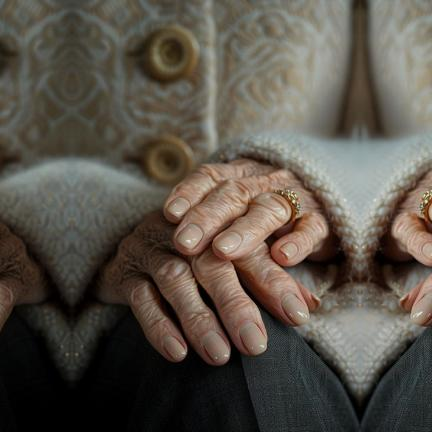Nail: (239, 322, 267, 356), (202, 332, 230, 364), (281, 294, 309, 326), (162, 335, 187, 362), (411, 294, 432, 326), (214, 232, 242, 255), (178, 224, 202, 249), (167, 198, 189, 218), (280, 242, 297, 259), (423, 243, 432, 259)
